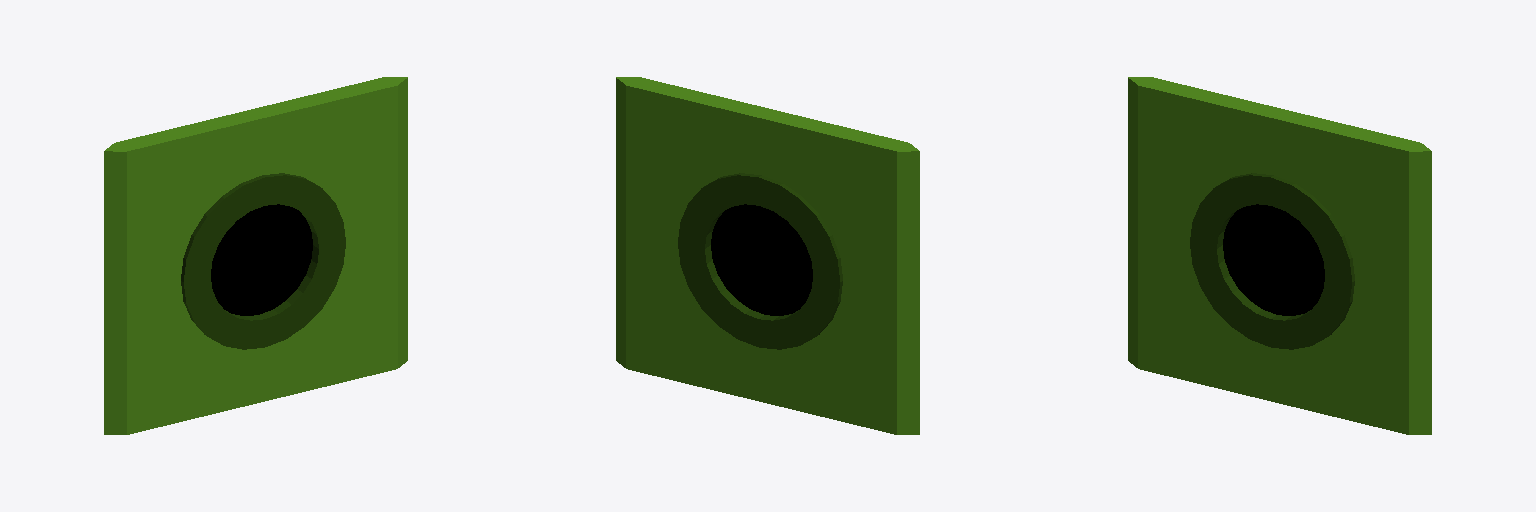
File: GreebusSlidingDoor.obj
3 renders of one model, left to right at view 1: azimuth 30°, elevation 25°; view 2: azimuth 150°, elevation 25°; view 3: azimuth 330°, elevation 25°, orthographic.
Parts seen in each view (by area): view 1: mergedBlocks; view 2: mergedBlocks; view 3: mergedBlocks.
Boxes of the visible parts, x1,y1,x2,y2 form: mergedBlocks: [104, 77, 407, 434]; mergedBlocks: [616, 77, 919, 434]; mergedBlocks: [1128, 77, 1431, 434].
Bounding box in the file's own units: 0.9112 × 0.81 × 0.0925.